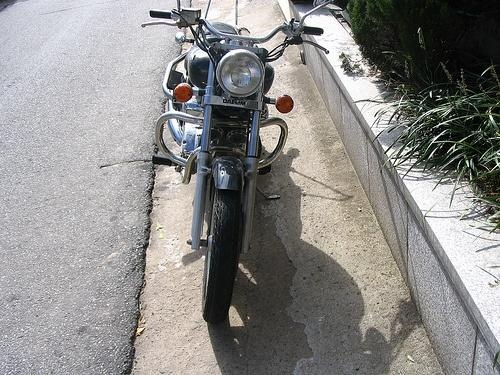motorbike: (139, 3, 341, 334)
